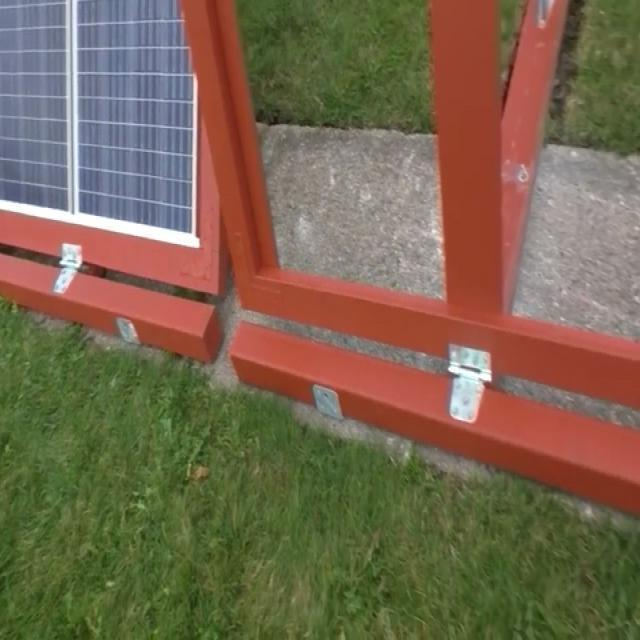Normal Solar Panel: (0, 0, 197, 240)
